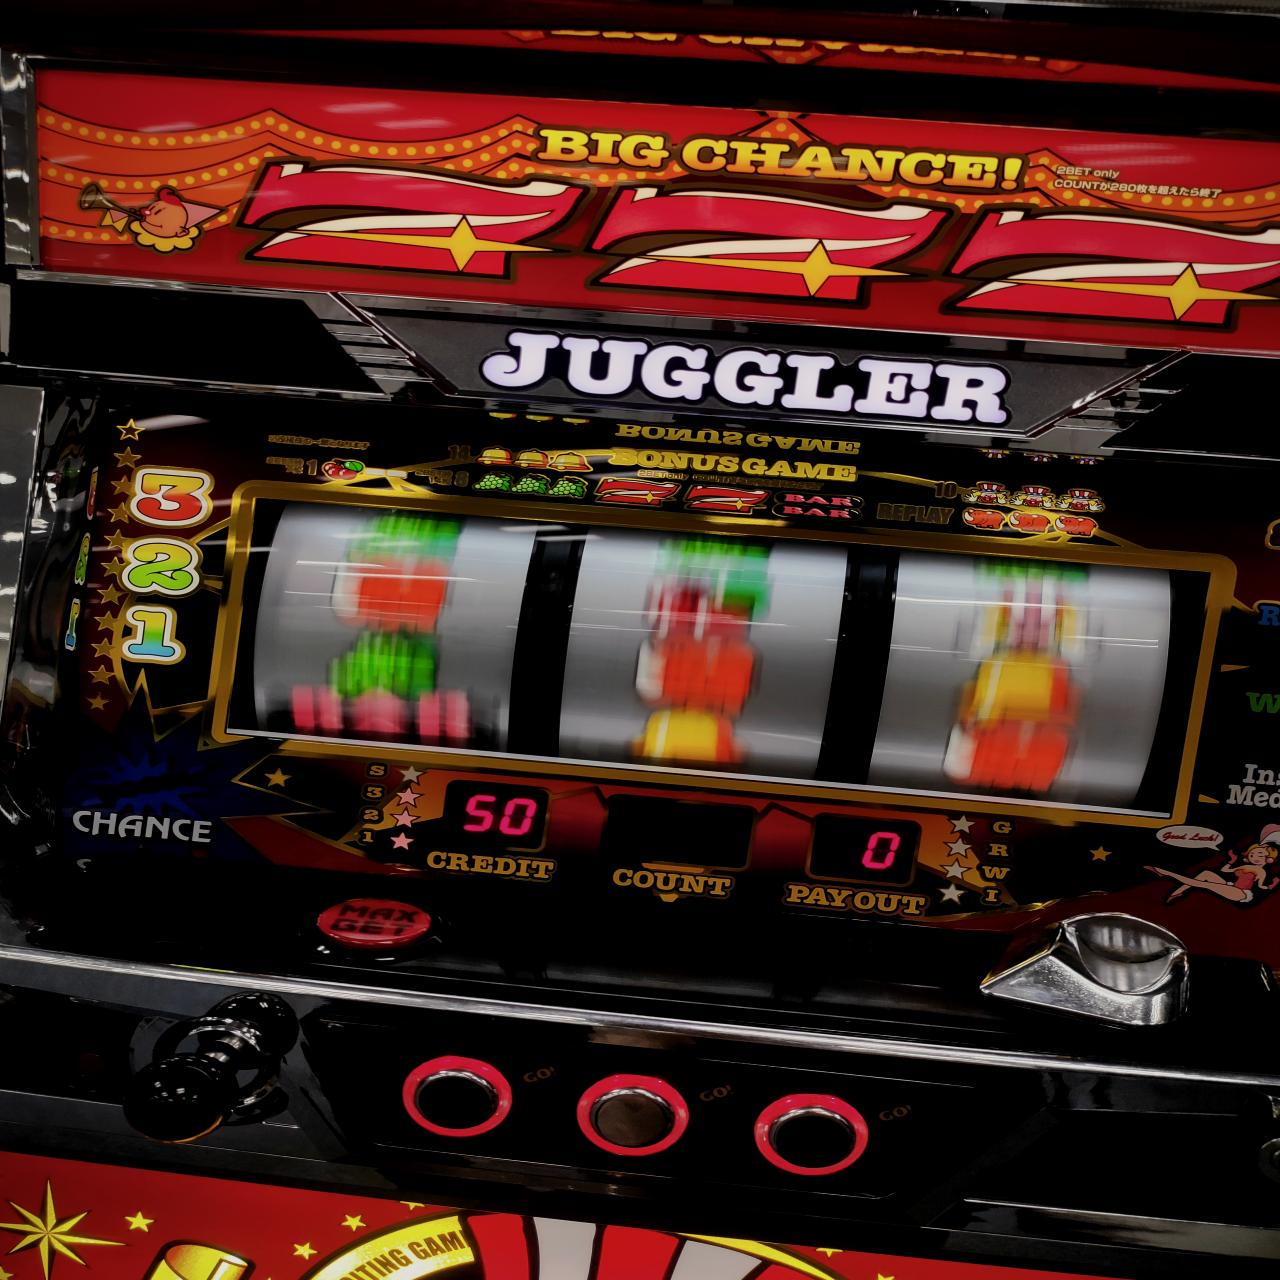rhino: (243, 496, 1184, 821)
